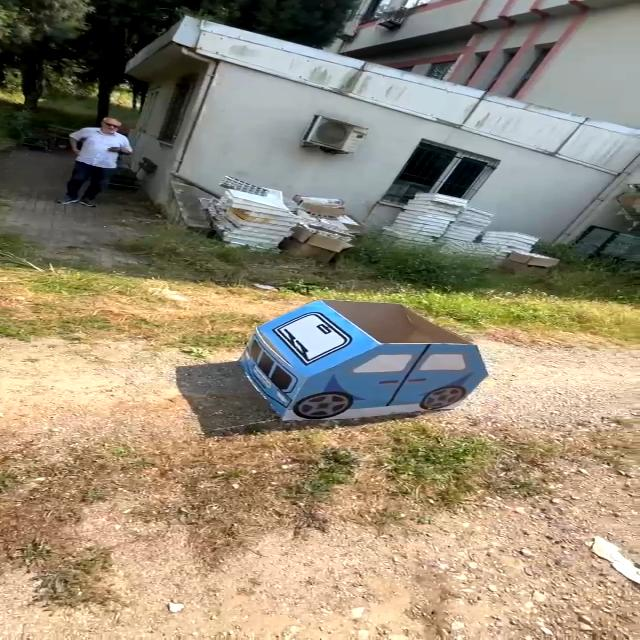blue_car: (215, 284, 503, 426)
